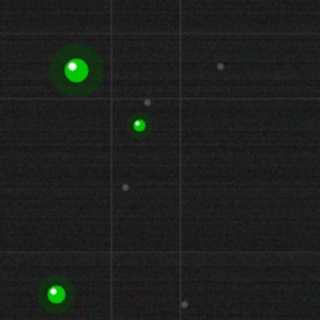green_normal: (62, 56, 90, 84), (45, 283, 67, 305), (131, 117, 147, 133)
